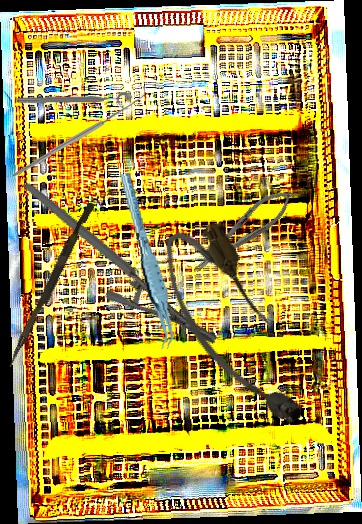Cannula: (147, 212, 318, 446)
Fixation Ring: (16, 91, 134, 114)
Hook Surgical: (11, 85, 147, 179)
Needle Holder: (22, 138, 222, 388), (186, 180, 301, 282)
Pusher: (7, 199, 95, 371)
Tissue Forceps: (119, 170, 176, 352)
